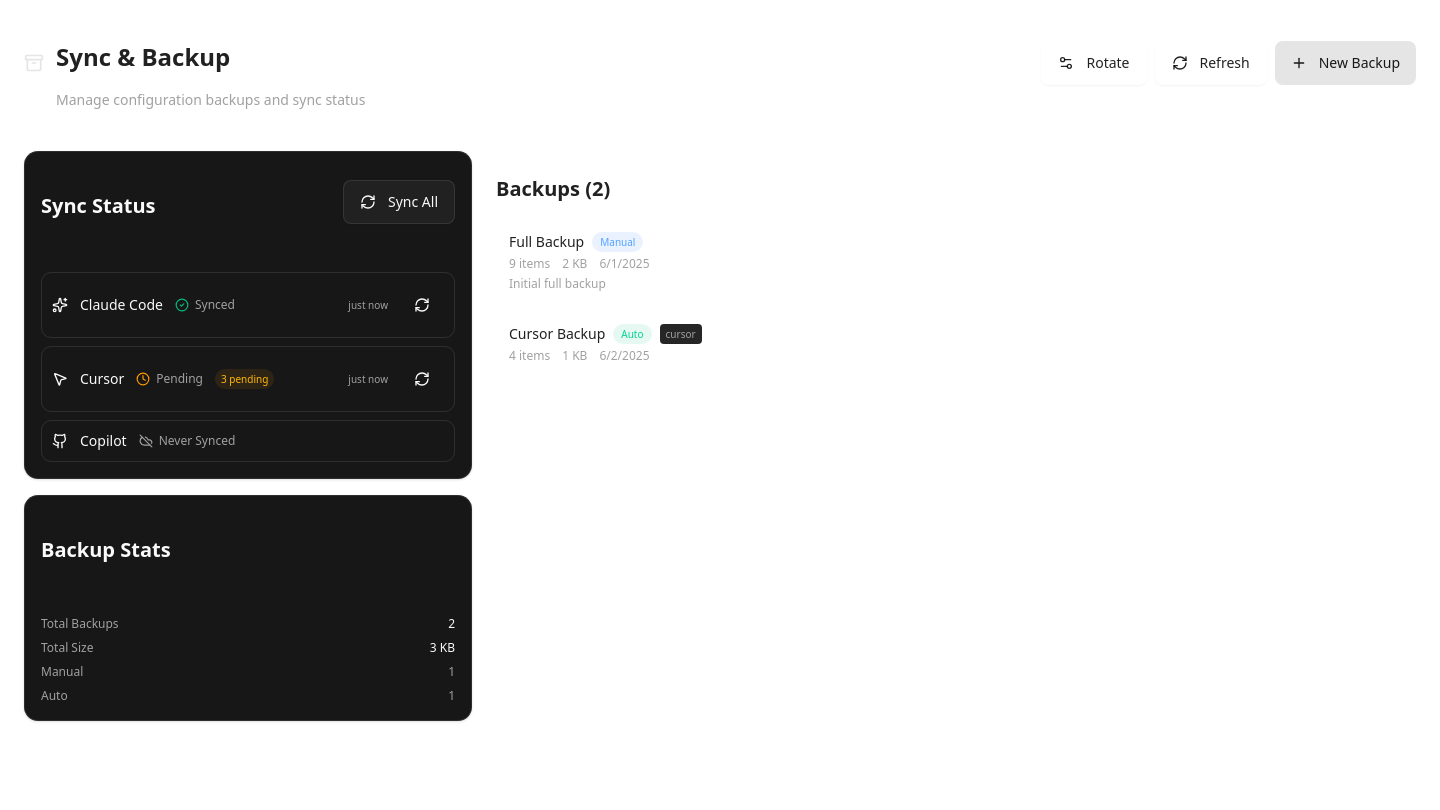
Test case: SyncBackupPage › backup selection › should show restore and delete buttons when a backup is selected
The width and height of the screenshot is (1440, 810).
Click the text "Full Backup" at (547, 242), box 509,232 -> 584,252
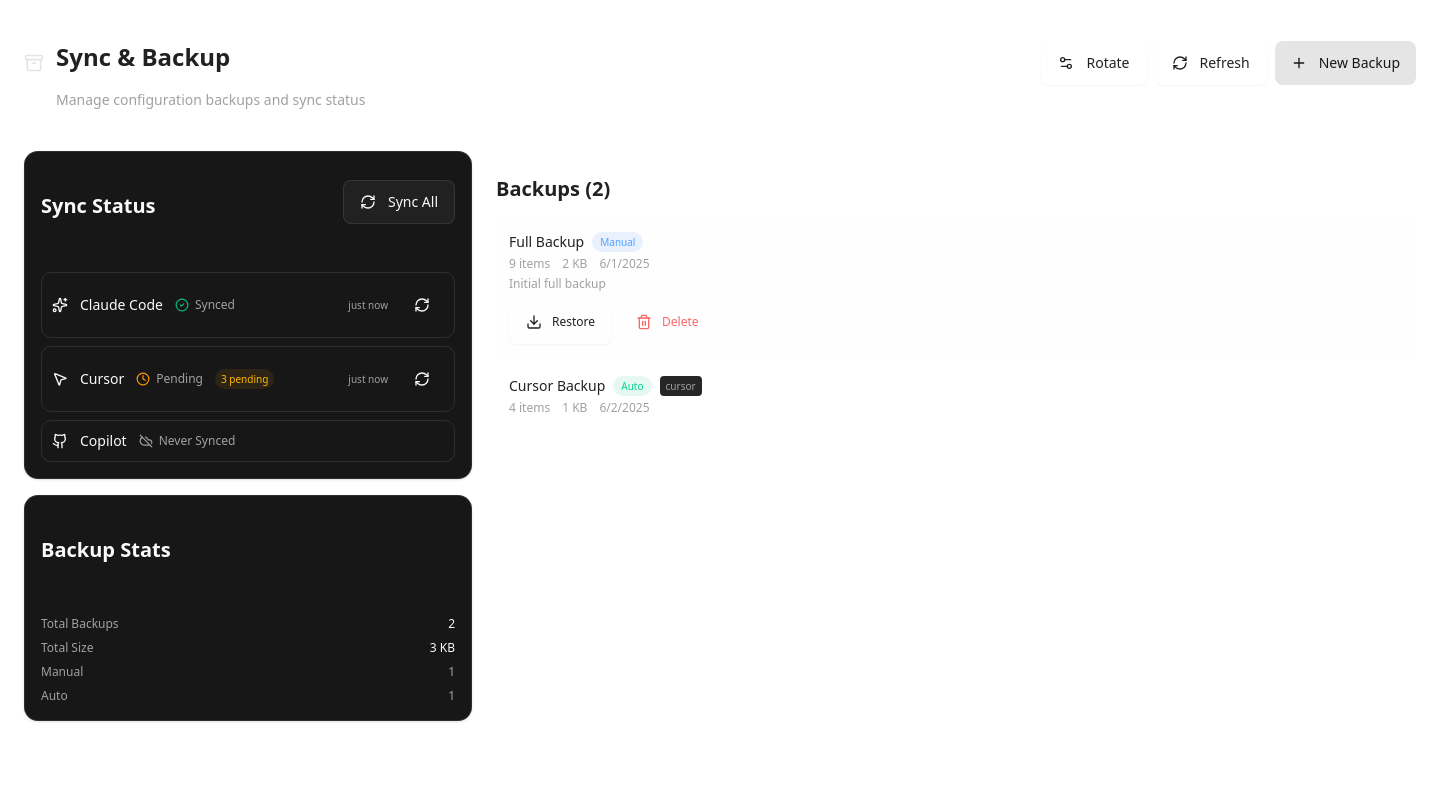
expect the button "Restore" is shown: met, box 509,300 -> 612,344
expect the button "Delete" is shown: met, box 620,300 -> 715,344
